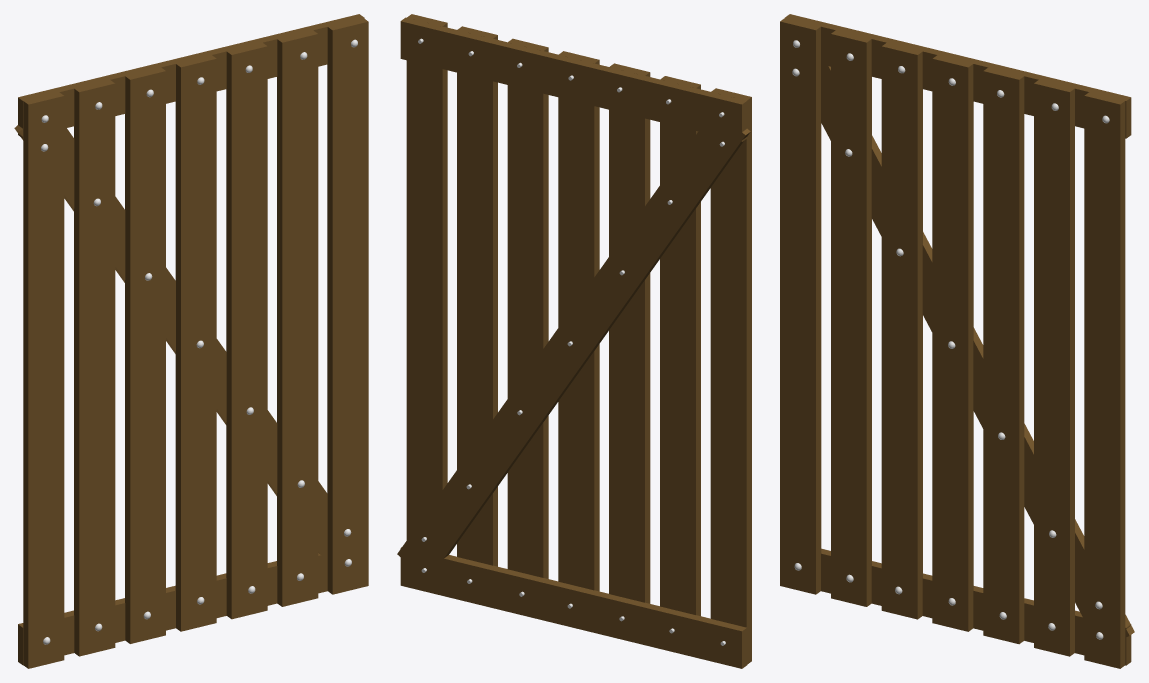
Rendered from PortonSimple.fbx.
The picture shows the model from 3 angles, left to right: view 1: azimuth 30°, elevation 25°; view 2: azimuth 150°, elevation 25°; view 3: azimuth 330°, elevation 25°; orthographic projection.
Parts seen in each view (by area): view 1: Cube.012, Cube.004, Cube.003, Cube.001, Cube.010, Cube.006, Cube.008, Cube.015, Cube.014, Cube.002; view 2: Cube.015, Cube.012, Cube.001, Cube.006, Cube.008, Cube.004, Cube.010, Cube.003, Cube.014, Cube.002; view 3: Cube.001, Cube.006, Cube.004, Cube.008, Cube.012, Cube.003, Cube.010, Cube.015, Cube.014, Cube.002.
Part boxes in pixels (bbox=[...]): Cube.012: bbox=[23, 92, 64, 668]; Cube.004: bbox=[226, 42, 267, 619]; Cube.003: bbox=[277, 30, 318, 606]; Cube.001: bbox=[327, 18, 368, 594]; Cube.010: bbox=[74, 79, 115, 656]; Cube.006: bbox=[175, 55, 216, 631]; Cube.008: bbox=[125, 67, 165, 643]; Cube.015: bbox=[14, 125, 327, 554]; Cube.014: bbox=[18, 14, 364, 138]; Cube.002: bbox=[18, 553, 327, 665]; Cube.015: bbox=[397, 128, 750, 581]; Cube.012: bbox=[710, 88, 751, 664]; Cube.001: bbox=[406, 14, 447, 539]; Cube.006: bbox=[558, 51, 599, 591]; Cube.008: bbox=[609, 63, 650, 603]; Cube.004: bbox=[507, 38, 548, 578]; Cube.010: bbox=[660, 76, 700, 615]; Cube.003: bbox=[457, 26, 497, 566]; Cube.014: bbox=[400, 17, 747, 141]; Cube.002: bbox=[400, 547, 747, 668]; Cube.001: bbox=[1084, 92, 1125, 668]; Cube.006: bbox=[932, 55, 973, 631]; Cube.004: bbox=[983, 67, 1024, 644]; Cube.008: bbox=[881, 42, 922, 619]; Cube.012: bbox=[780, 17, 821, 594]; Cube.003: bbox=[1034, 79, 1074, 656]; Cube.010: bbox=[831, 30, 871, 606]; Cube.015: bbox=[821, 52, 1134, 636]; Cube.014: bbox=[785, 14, 1131, 138]; Cube.002: bbox=[821, 548, 1131, 665].
Size of the model in its own units: 96.95 by 150 by 6.67.
